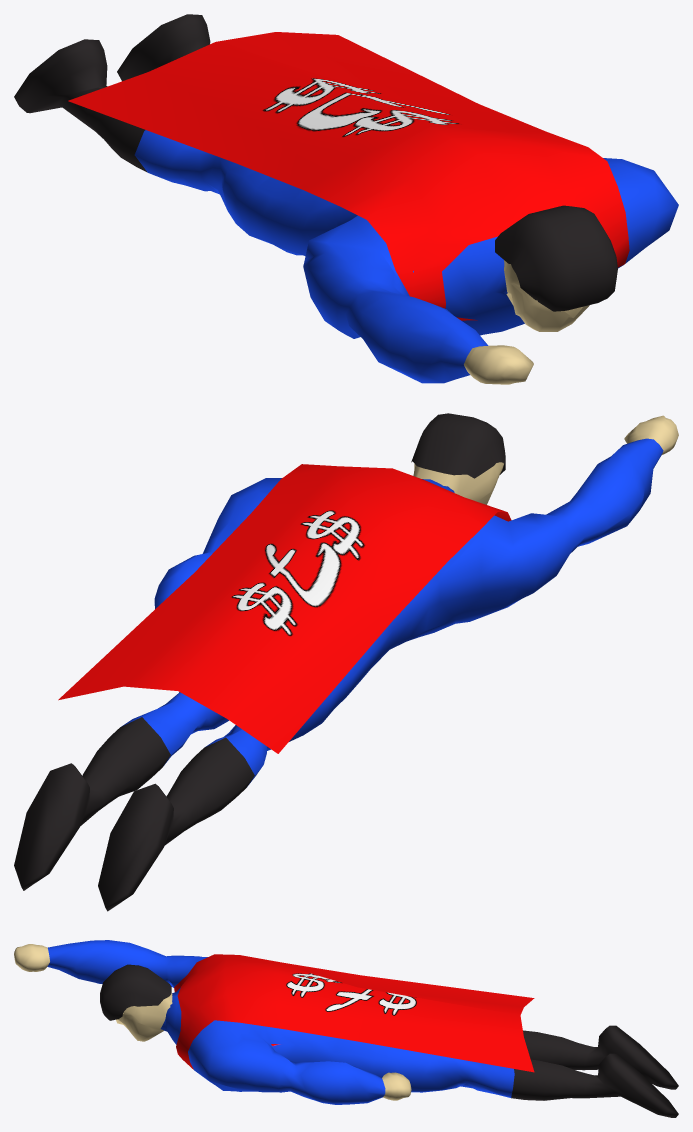
File: superman.fbx
The picture shows the model from 3 angles, top to bottom: view 1: azimuth 30°, elevation 25°; view 2: azimuth 150°, elevation 25°; view 3: azimuth 270°, elevation 25°; orthographic projection. The views are drawn at different scales.
Visible parts, largest first — view 1: Circle.001; view 2: Circle.001; view 3: Circle.001.
Boxes of the visible parts, bbox=[...] form: Circle.001: bbox=[14, 14, 678, 384]; Circle.001: bbox=[14, 413, 678, 911]; Circle.001: bbox=[14, 940, 678, 1117].
Bounding box in the file's own units: 547 × 312 × 1406.
